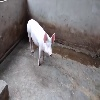heo: (25, 17, 57, 67)
